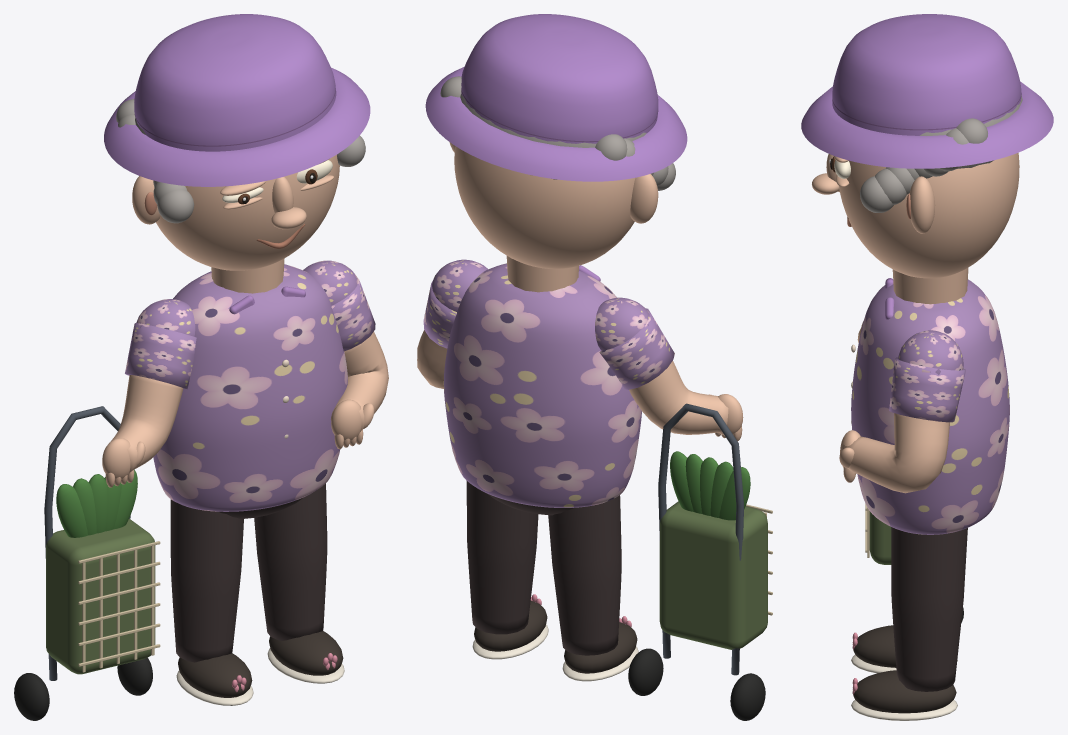
Rendered from grandma.glb.
3 renders of one model, left to right at view 1: azimuth 30°, elevation 25°; view 2: azimuth 150°, elevation 25°; view 3: azimuth 270°, elevation 25°, orthographic. The views are drawn at different scales.
Visible parts, largest first — view 1: Torso, HatCrown, TrolleyBag, HatBrim, TrouserLeg, SculptedHead, TrouserLeg.001, Arm, ShortSleeve, Arm.001, Shoe, Shoe.001 (+19 smaller); view 2: Torso, HatCrown, SculptedHead, TrolleyBag, HatBrim, TrouserLeg, TrouserLeg.001, Arm, ShortSleeve, TrolleyFrame, ShoulderCap, ShoulderCap.001 (+18 smaller); view 3: Torso, HatCrown, SculptedHead, TrouserLeg.001, HatBrim, Arm.001, ShortSleeve.001, Shoe.001, ShoulderCap.001, Neck, Shoe, Ear1 (+6 smaller).
Boxes of the visible parts, x1,y1,x2,y2 form: Torso: (153, 264, 347, 511); HatCrown: (134, 14, 336, 151); TrolleyBag: (46, 518, 155, 674); HatBrim: (104, 68, 370, 186); TrouserLeg: (170, 499, 243, 662); SculptedHead: (156, 154, 339, 270); TrouserLeg.001: (254, 483, 327, 640); Arm: (110, 375, 183, 472); ShortSleeve: (125, 323, 196, 389); Arm.001: (331, 331, 388, 431); Shoe: (178, 653, 252, 697); Shoe.001: (269, 631, 343, 675); Torso: (443, 263, 641, 507); HatCrown: (461, 14, 658, 143); SculptedHead: (454, 146, 635, 268); TrolleyBag: (659, 501, 767, 649); HatBrim: (425, 67, 687, 181); TrouserLeg: (548, 495, 621, 655); TrouserLeg.001: (466, 481, 538, 634); Arm: (629, 361, 728, 434); ShortSleeve: (599, 308, 674, 389); TrolleyFrame: (658, 403, 743, 675); ShoulderCap: (595, 297, 649, 350); ShoulderCap.001: (432, 259, 487, 311); Torso: (851, 279, 1009, 534); HatCrown: (832, 14, 1021, 135); SculptedHead: (839, 152, 1019, 278); TrouserLeg.001: (891, 527, 967, 691); HatBrim: (801, 82, 1053, 168); Arm.001: (841, 413, 949, 493); ShortSleeve.001: (889, 357, 965, 422); Shoe.001: (852, 670, 956, 713); ShoulderCap.001: (898, 330, 963, 374); Neck: (892, 268, 968, 304); Shoe: (852, 625, 896, 667); Ear1: (909, 176, 935, 233).
Size of the model in its own units: 1.44 by 2.49 by 0.8729.
22 materials, 1 textured.
